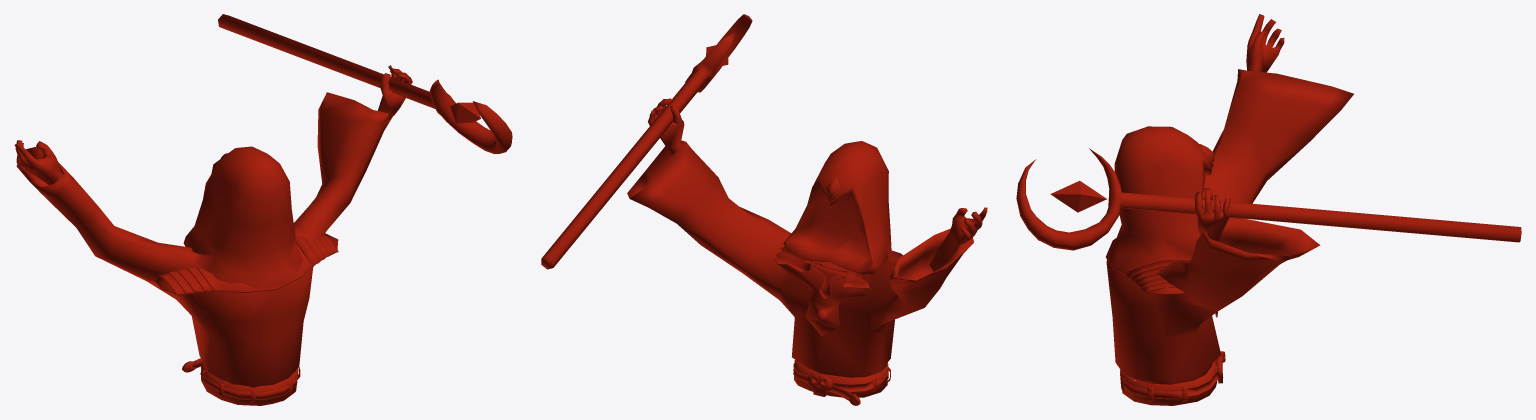
File: top_000034.obj
3 views of the same model, side by side, from view 1: azimuth 30°, elevation 25°; view 2: azimuth 150°, elevation 25°; view 3: azimuth 270°, elevation 25° (orthographic). The views are drawn at different scales.
Parts seen in each view (by area): view 1: LowPoly_Warlock.000_Plane.005; view 2: LowPoly_Warlock.000_Plane.005; view 3: LowPoly_Warlock.000_Plane.005.
Boxes of the visible parts, box(x1,y1,x2,y2) form: LowPoly_Warlock.000_Plane.005: box(14, 14, 512, 405); LowPoly_Warlock.000_Plane.005: box(541, 14, 987, 405); LowPoly_Warlock.000_Plane.005: box(1016, 14, 1521, 405).
Bounding box in the file's own units: 1.81 × 1.3 × 1.88.
